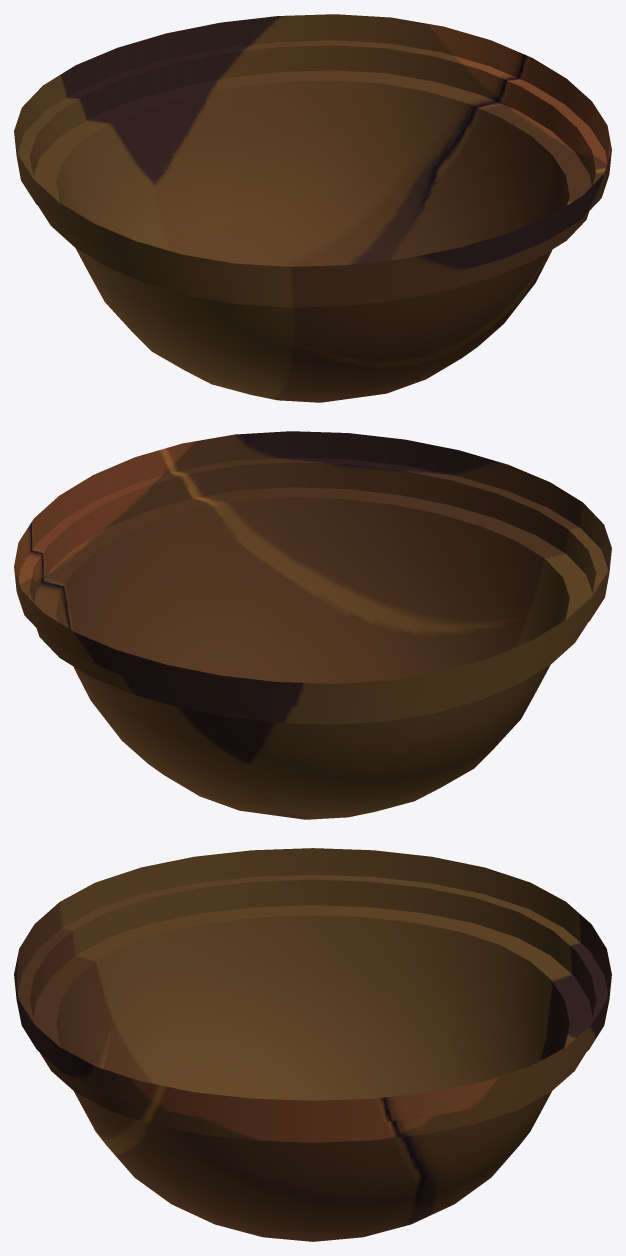
File: CeilingLight.fbx
3 views of the same model, one above another, from view 1: azimuth 30°, elevation 25°; view 2: azimuth 150°, elevation 25°; view 3: azimuth 270°, elevation 25° (orthographic). The views are drawn at different scales.
Parts seen in each view (by area): view 1: Ceiling_Light; view 2: Ceiling_Light; view 3: Ceiling_Light.
Boxes of the visible parts, x1,y1,x2,y2 form: Ceiling_Light: (14, 14, 611, 402); Ceiling_Light: (14, 431, 611, 819); Ceiling_Light: (14, 848, 611, 1241).
Bounding box in the file's own units: 48.57 × 23.44 × 48.57.
